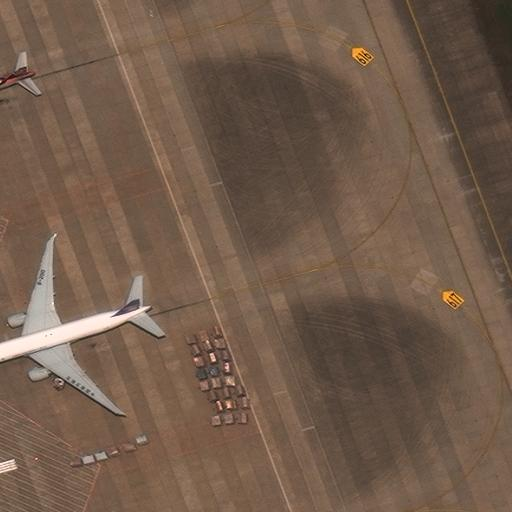Large Civil Transport: (0, 241, 152, 416), (0, 57, 35, 132)
